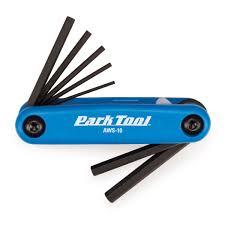wrench: (102, 139, 186, 204), (24, 14, 76, 105), (36, 28, 93, 98), (88, 137, 179, 178), (41, 43, 106, 100), (47, 60, 113, 98), (57, 79, 115, 99)
